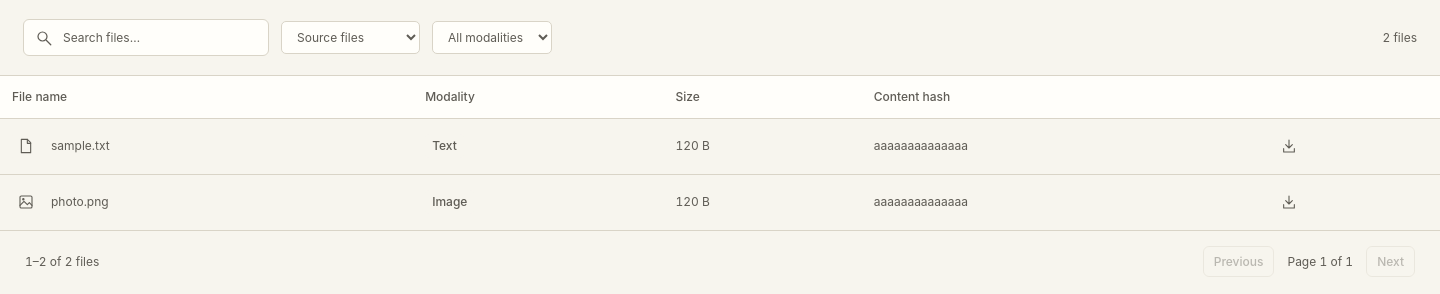
Test case: filters files and switches to a frozen version manifest
Select "image" in the dropdown named "Filter modality" at point(492, 38), box 432,21 -> 552,54
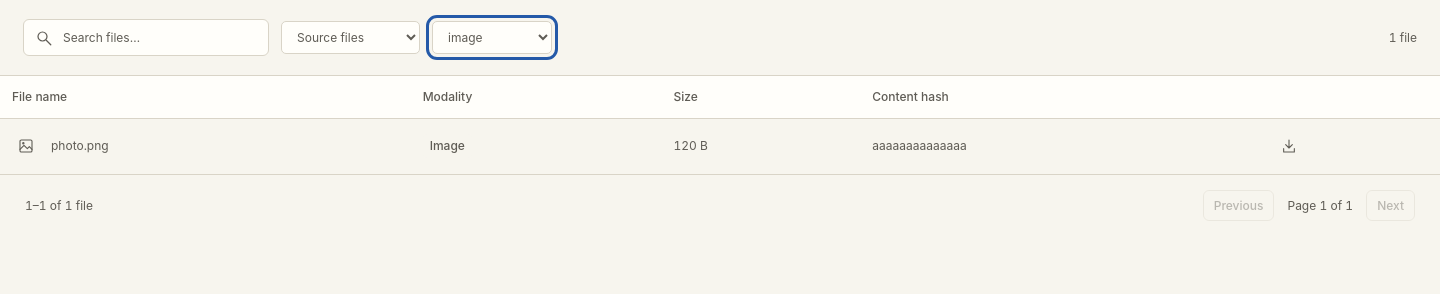
Expected: the link "photo.png" is shown, 51,137 -> 109,155
Now the link "sample.txt" is gone
Select "All modalities" in the dropdown named "Filter modality" at point(492, 38), box 432,21 -> 552,54
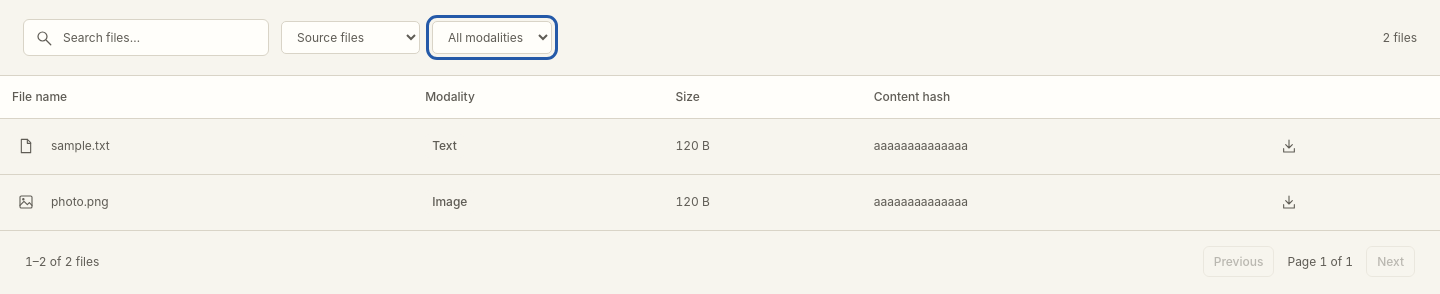
Select "Version 1 · latest" in the dropdown named "Select file version" at point(350, 38), box 281,21 -> 420,54
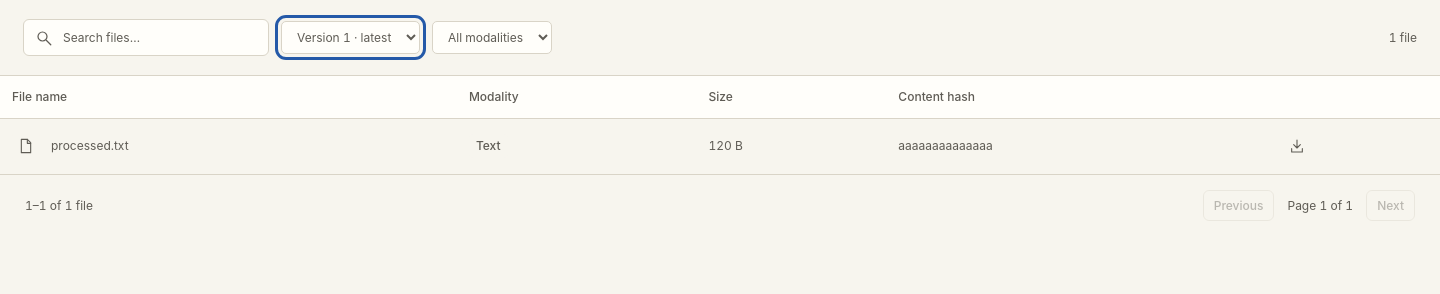
Now the link "processed.txt" is shown, box 51,137 -> 129,155
Now the link "sample.txt" is gone
